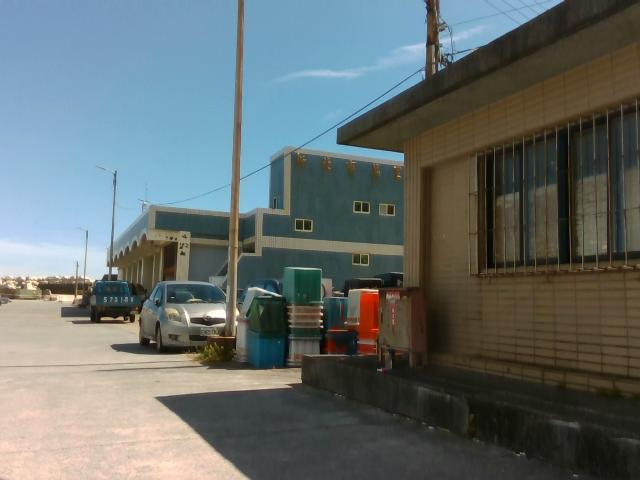pollute: (233, 265, 377, 371)
